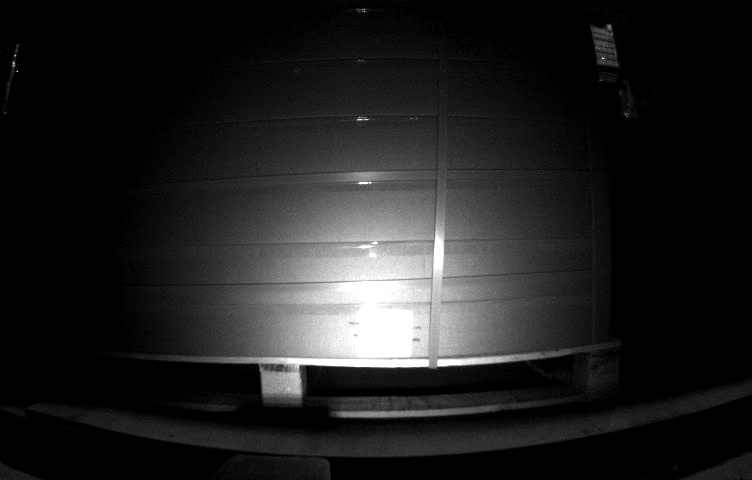True Barcode: (360, 309, 416, 356)
